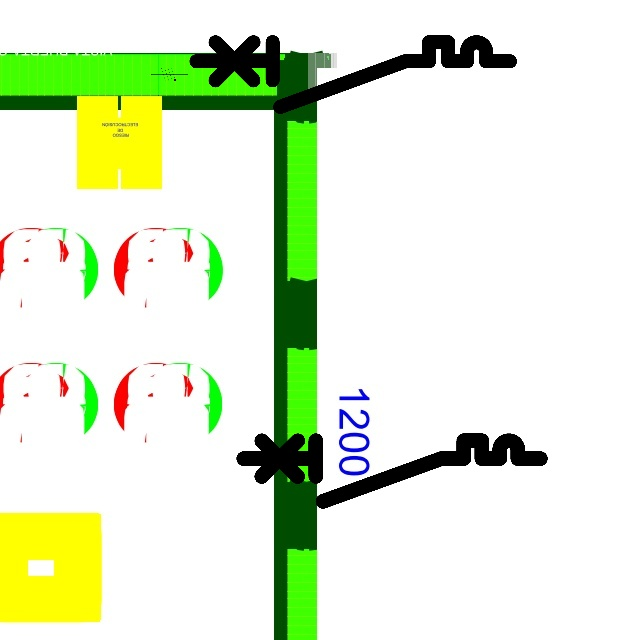interruptor_termomagnetico: (188, 34, 518, 114), (236, 433, 548, 509)
